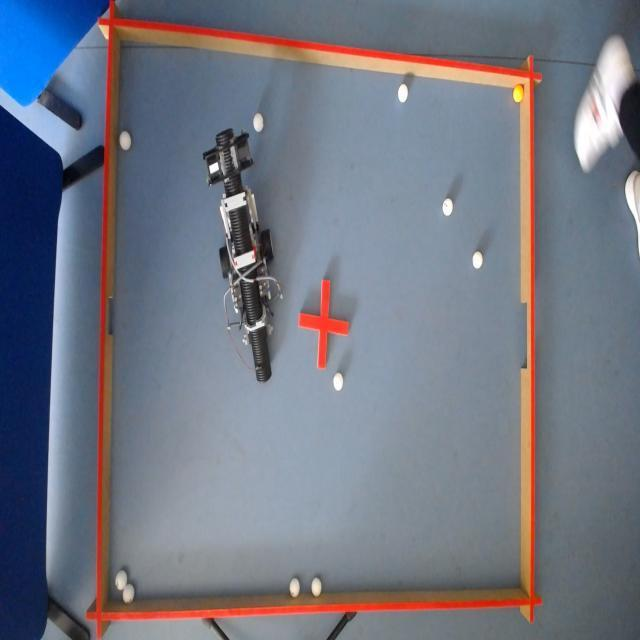orange: (513, 85, 523, 102)
robot: (210, 130, 282, 382)
white: (114, 568, 128, 590), (122, 581, 134, 603), (398, 84, 410, 105), (120, 130, 132, 150), (310, 578, 322, 597), (290, 576, 300, 598), (473, 251, 483, 270), (442, 197, 452, 216), (254, 113, 264, 132), (332, 372, 342, 390)
